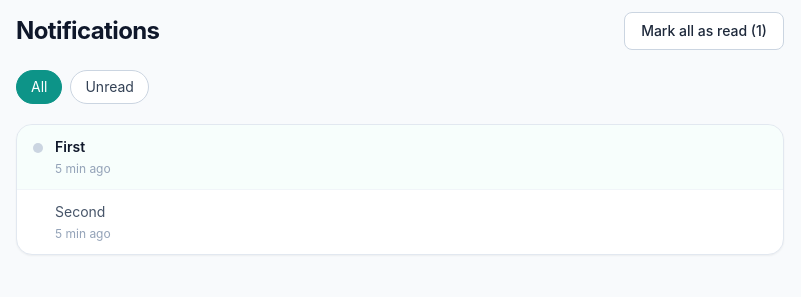
the notifications page › lists everything, filters to unread, and marks all as read
The width and height of the screenshot is (801, 297).
expect the text "First" is shown: met, box [54, 137, 108, 155]
expect the text "Second" is shown: met, box [55, 203, 105, 220]
Step 1. Click the tab "Unread" → {"x": 110, "y": 87}, box [70, 70, 149, 104]
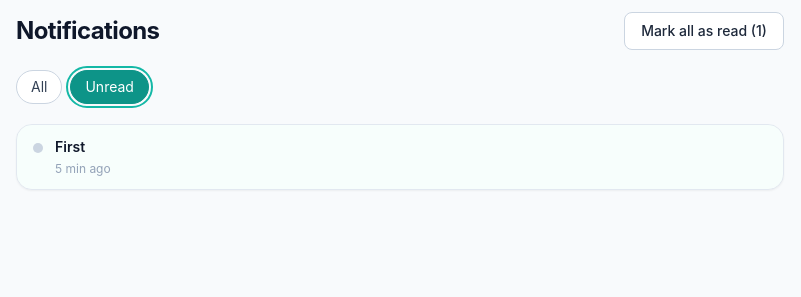
expect the button "Second" is gone: met
Step 2. Click the button "Mark all as read (1)" → {"x": 704, "y": 31}, box [624, 12, 784, 50]
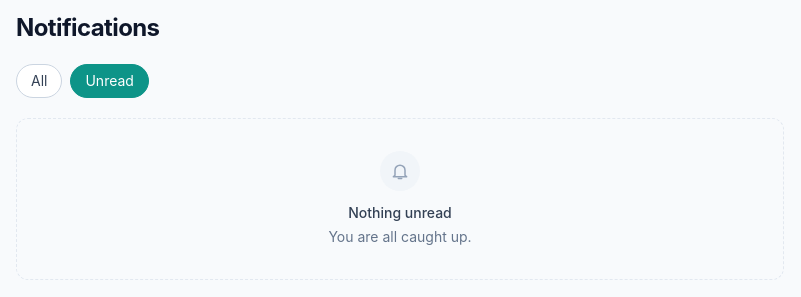
expect the text "Nothing unread" is shown: met, box [348, 203, 452, 223]
